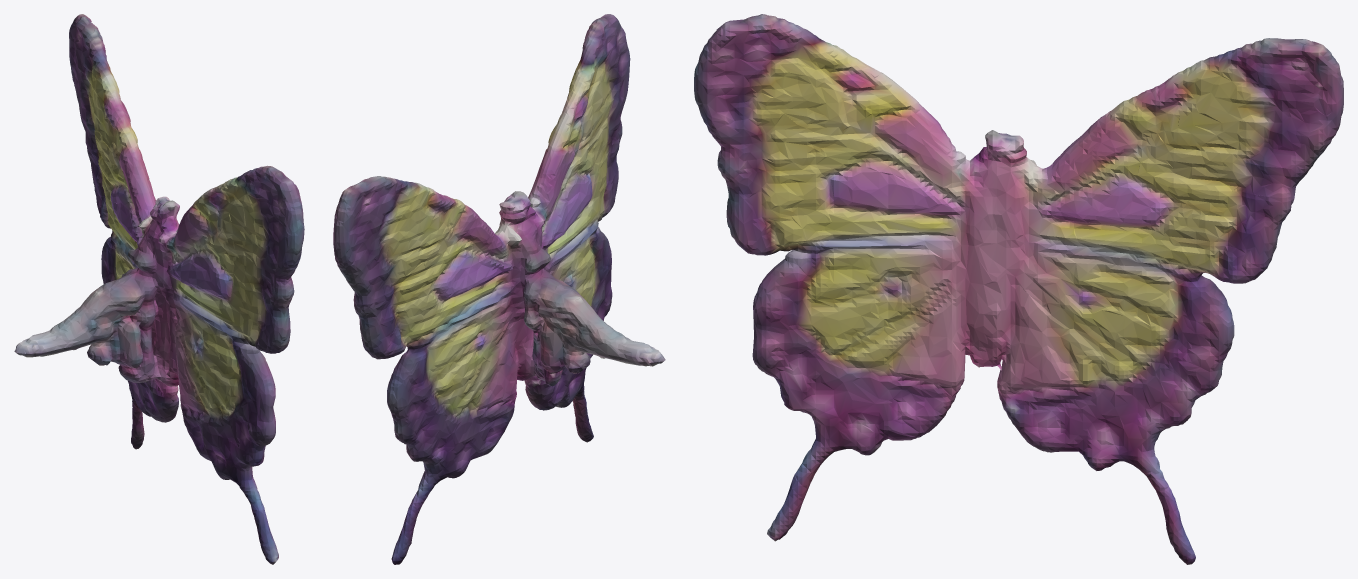
The model's file is butterfly.glb.
3 renders of one model, left to right at view 1: azimuth 30°, elevation 25°; view 2: azimuth 150°, elevation 25°; view 3: azimuth 270°, elevation 25°, orthographic. The views are drawn at different scales.
Parts seen in each view (by area): view 1: geometry_0; view 2: geometry_0; view 3: geometry_0.
Boxes of the visible parts, box(x1,y1,x2,y2) form: geometry_0: box(14, 14, 304, 564); geometry_0: box(333, 14, 665, 564); geometry_0: box(694, 14, 1343, 564).
Size of the model in its own units: 0.4417 by 0.8823 by 0.9795.
